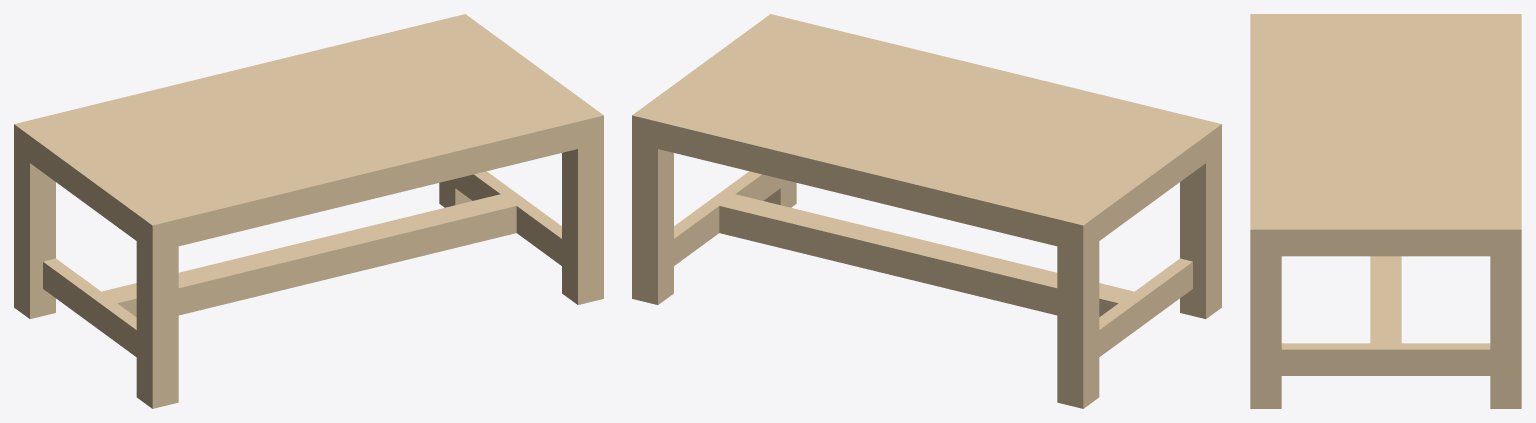
Rendered from workbench.glb.
The picture shows the model from 3 angles, left to right: view 1: azimuth 30°, elevation 25°; view 2: azimuth 150°, elevation 25°; view 3: azimuth 270°, elevation 25°; orthographic projection. The views are drawn at different scales.
Visible parts, largest first — view 1: table; view 2: table; view 3: table.
Boxes of the visible parts, bbox=[...] form: table: bbox=[14, 14, 603, 408]; table: bbox=[632, 14, 1221, 408]; table: bbox=[1250, 14, 1521, 408].
Size of the model in its own units: 8.41 by 3.27 by 4.47.
